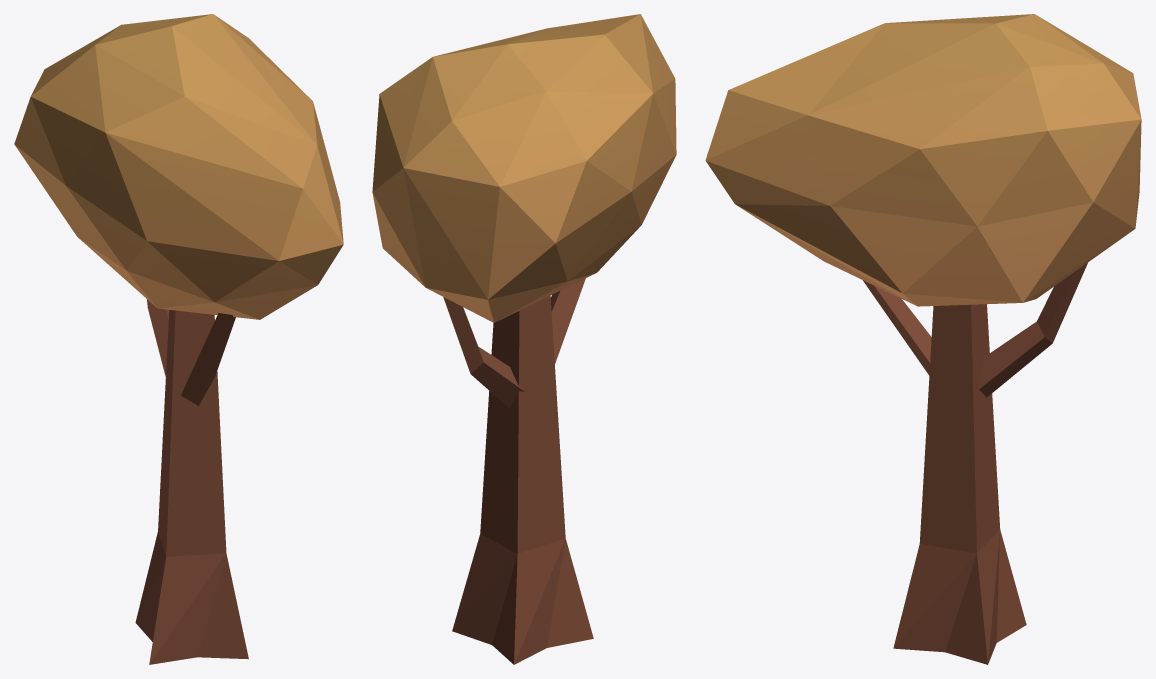
Rendered from Tree_37_gradient_yellow_vc.fbx.
3 views of the same model, side by side, from view 1: azimuth 30°, elevation 25°; view 2: azimuth 150°, elevation 25°; view 3: azimuth 270°, elevation 25° (orthographic).
Parts seen in each view (by area): view 1: Tree_37_gradient_yellow_vc; view 2: Tree_37_gradient_yellow_vc; view 3: Tree_37_gradient_yellow_vc.
Part boxes in pixels (x1,y1,x2,y2): Tree_37_gradient_yellow_vc: (14,14,343,664); Tree_37_gradient_yellow_vc: (372,14,676,664); Tree_37_gradient_yellow_vc: (705,14,1141,664).
Bounding box in the file's own units: 93.74 × 233 × 151.
